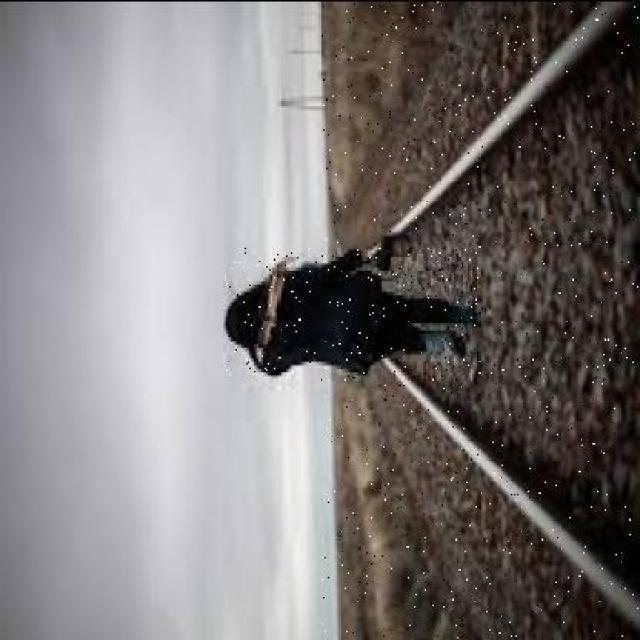danger: (224, 246, 480, 380)
rail: (322, 0, 640, 637)
